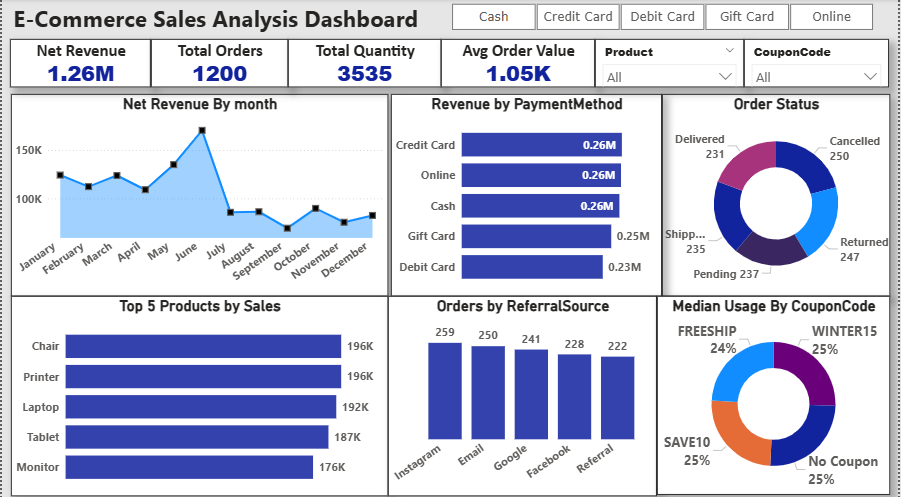

What the dashboard file says about the page in this screenshot:
{"tool":"powerbi","page":{"name":"Dashboard","canvas":[1280,720],"ordinal":0},"visuals":[{"type":"textbox","box":[11.7,0,657.1,57.1],"z":0},{"type":"areaChart","title":"Net Revenue By month","fields":{"Category":["sales.Date.Variation.Date Hierarchy.Month"],"Y":["Sum(e_commerce sales.TotalPrice)"]},"box":[12.9,135.7,538.6,288.6],"z":1000},{"type":"barChart","title":"Top 5 Products by Sales","fields":{"Category":["sales.Product"],"Y":["Sum(sales.TotalPrice)"]},"box":[12.9,424.3,538.6,285.7],"z":2000},{"type":"donutChart","title":"Order Status","fields":{"Category":["sales.OrderStatus"],"Y":["CountNonNull(sales.OrderID)"]},"box":[942.9,135.7,325.7,288.6],"z":3000},{"type":"card","title":"Net Revenue","fields":{"Values":["sales.Total Revenue"]},"box":[11.4,57.1,201.4,68.6],"z":4000},{"type":"card","title":"Total Orders","fields":{"Values":["sales.Total Orders"]},"box":[212.9,57.1,195.7,68.6],"z":5000},{"type":"card","title":"Total Quantity","fields":{"Values":["sales.Total Quantity"]},"box":[408.6,57.1,218.6,68.6],"z":6000},{"type":"card","title":"Avg Order Value","fields":{"Values":["sales.Avg_order_value"]},"box":[627.1,57.1,220,68.6],"z":7000},{"type":"barChart","title":"Revenue by PaymentMethod","fields":{"Category":["e_commerce sales.PaymentMethod"],"Y":["e_commerce sales.Total Revenue"]},"box":[555.7,135.7,387.1,288.6],"z":8000},{"type":"columnChart","title":"Orders by ReferralSource","fields":{"Category":["e_commerce sales.ReferralSource"],"Y":["CountNonNull(e_commerce sales.OrderID)"]},"box":[551.4,424.3,384.3,285.7],"z":9000},{"type":"donutChart","title":"Median Usage By CouponCode","fields":{"Category":["e_commerce sales.CouponCode"],"Y":["Median(e_commerce sales.TotalPrice)"]},"box":[935.7,424.3,332.9,284.3],"z":10000},{"type":"slicer","fields":{"Values":["e_commerce sales.Product"]},"box":[847.1,57.1,212.9,68.6],"z":10001},{"type":"slicer","fields":{"Values":["e_commerce sales.CouponCode"]},"box":[1060,57.1,207.1,68.6],"z":10002},{"type":"slicer","fields":{"Values":["e_commerce sales.PaymentMethod"]},"box":[617.1,0,651.4,51.4],"z":10003}]}

Visuals, with their boxes in screenshot pixels (x1, y1, x2, y2), scaled from the page's 1280x720 canvas onto the 901x497 screenshot:
textbox: 8 0 471 39
"Net Revenue By month" areaChart: 9 94 388 293
"Top 5 Products by Sales" barChart: 9 293 388 490
"Order Status" donutChart: 664 94 893 293
"Net Revenue" card: 8 39 150 87
"Total Orders" card: 150 39 288 87
"Total Quantity" card: 288 39 441 87
"Avg Order Value" card: 441 39 596 87
"Revenue by PaymentMethod" barChart: 391 94 664 293
"Orders by ReferralSource" columnChart: 388 293 659 490
"Median Usage By CouponCode" donutChart: 659 293 893 489
slicer - e_commerce sales.Product: 596 39 746 87
slicer - e_commerce sales.CouponCode: 746 39 892 87
slicer - e_commerce sales.PaymentMethod: 434 0 893 35
